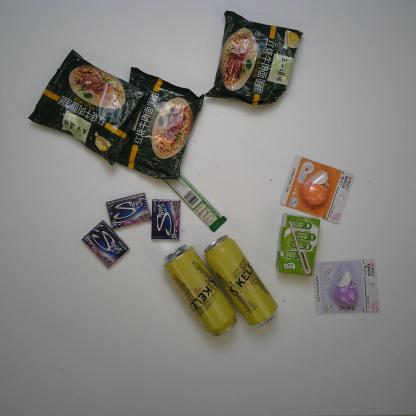Alcohol: (201, 233, 280, 330), (161, 241, 239, 339)
Chocolate: (160, 170, 229, 235)
Gum: (78, 218, 131, 270), (103, 191, 153, 232), (147, 197, 183, 242)
Instant Noodles: (24, 46, 149, 168), (114, 64, 206, 182), (203, 9, 305, 109)
Milk: (271, 211, 323, 278)
Stationery: (276, 152, 357, 226), (308, 255, 385, 316)
